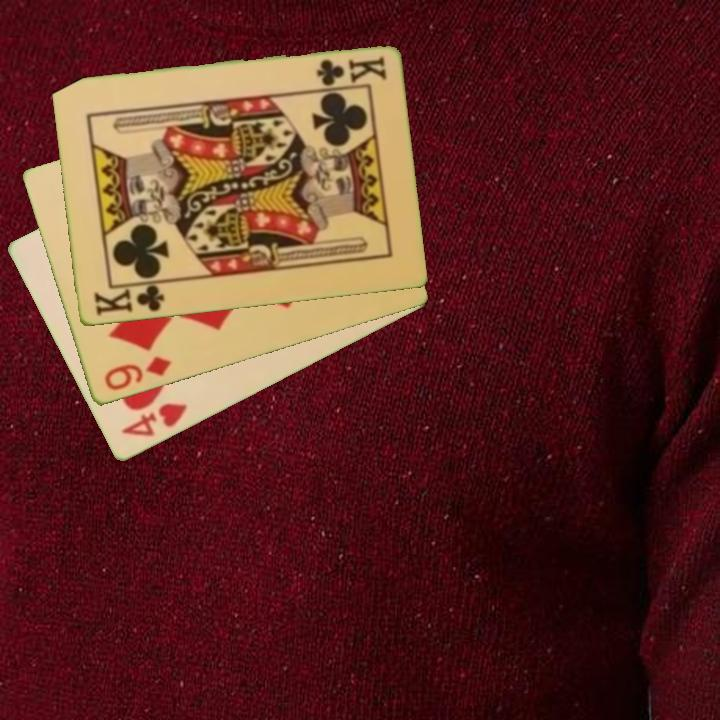4h: (117, 400, 190, 441)
9d: (100, 353, 175, 394)
Kc: (90, 279, 168, 320), (312, 53, 389, 88)
